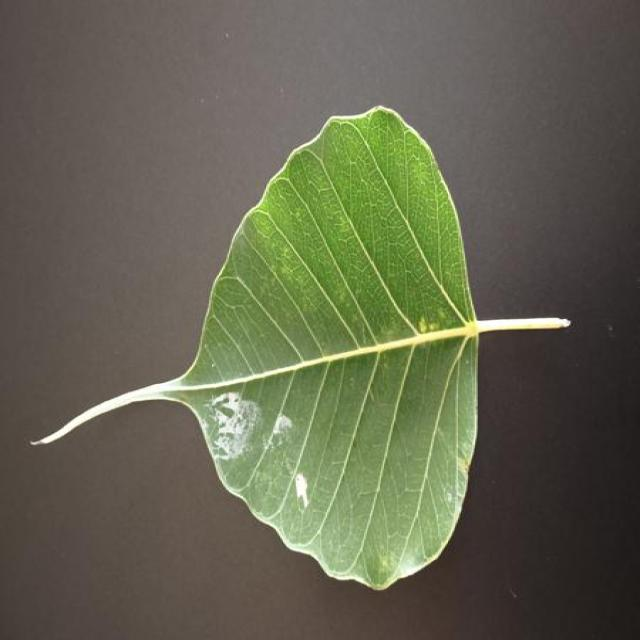arali: (180, 108, 482, 588)
disease in leaf: (32, 108, 570, 588), (33, 108, 568, 589)
